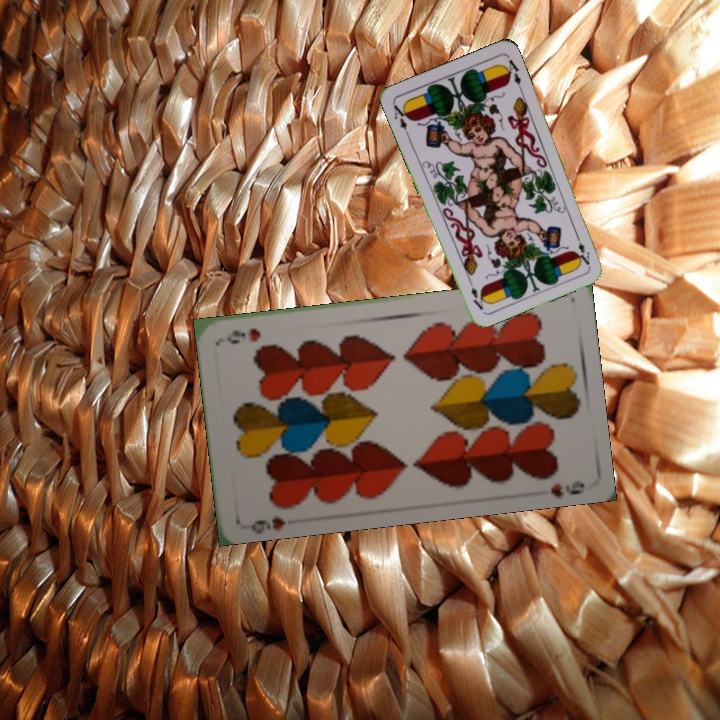EA: (571, 229, 592, 268), (389, 99, 412, 133)
H9: (247, 511, 288, 534)
